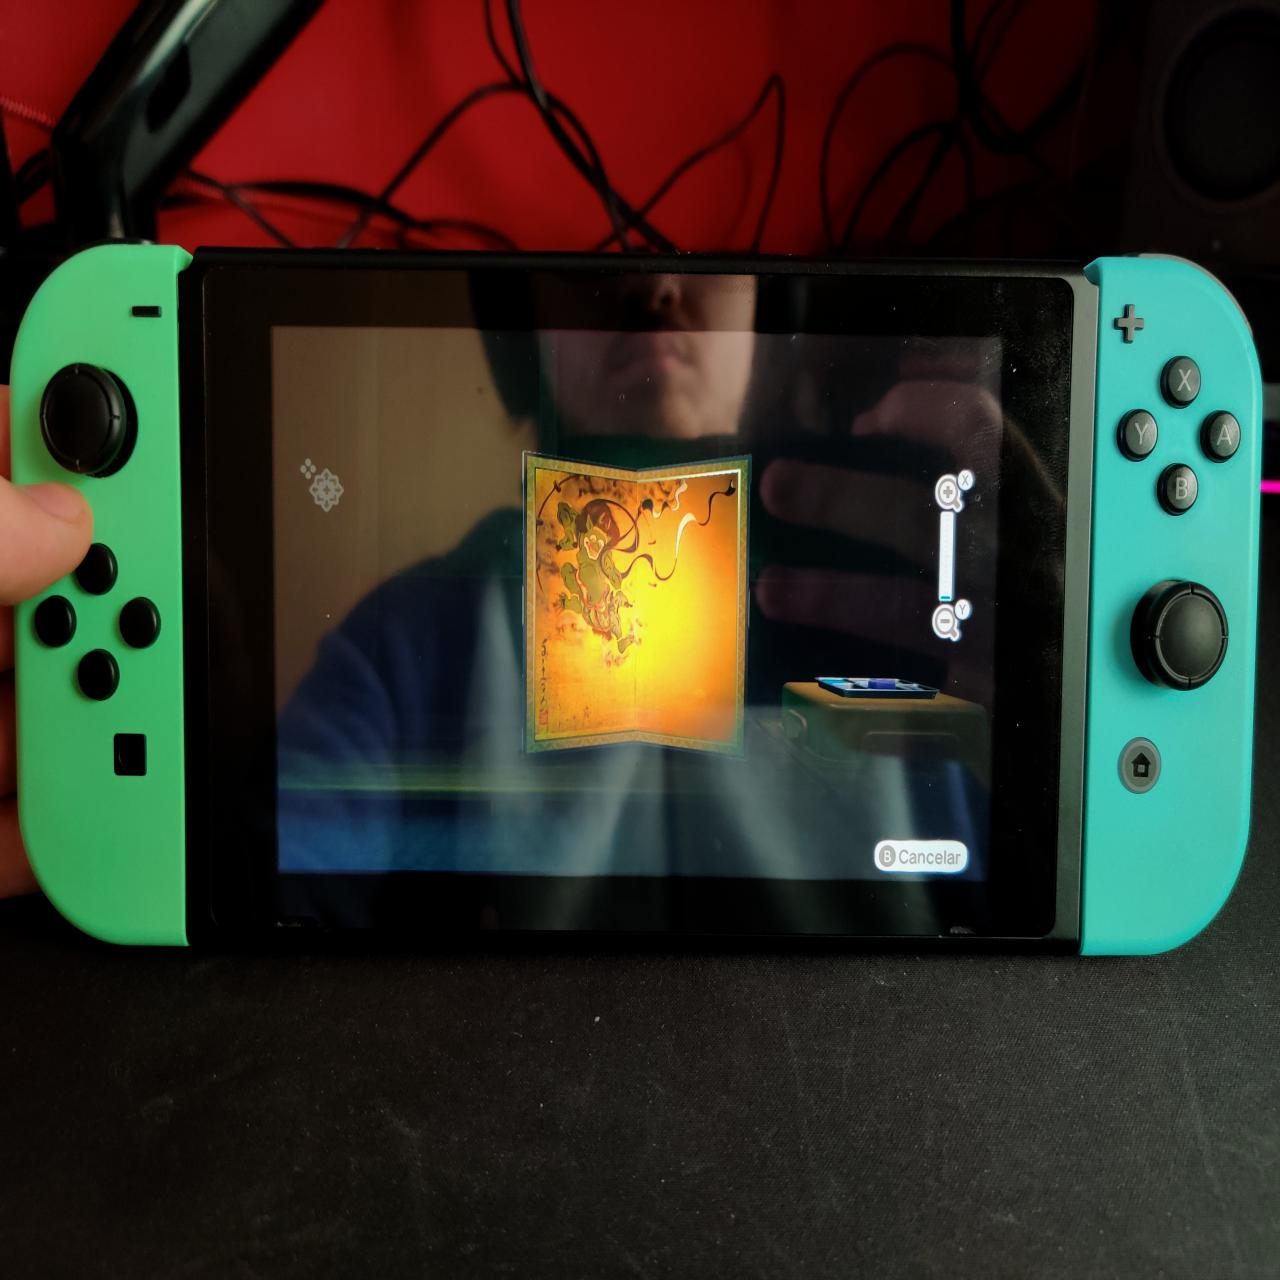RaijinFake: (526, 455, 748, 761)
